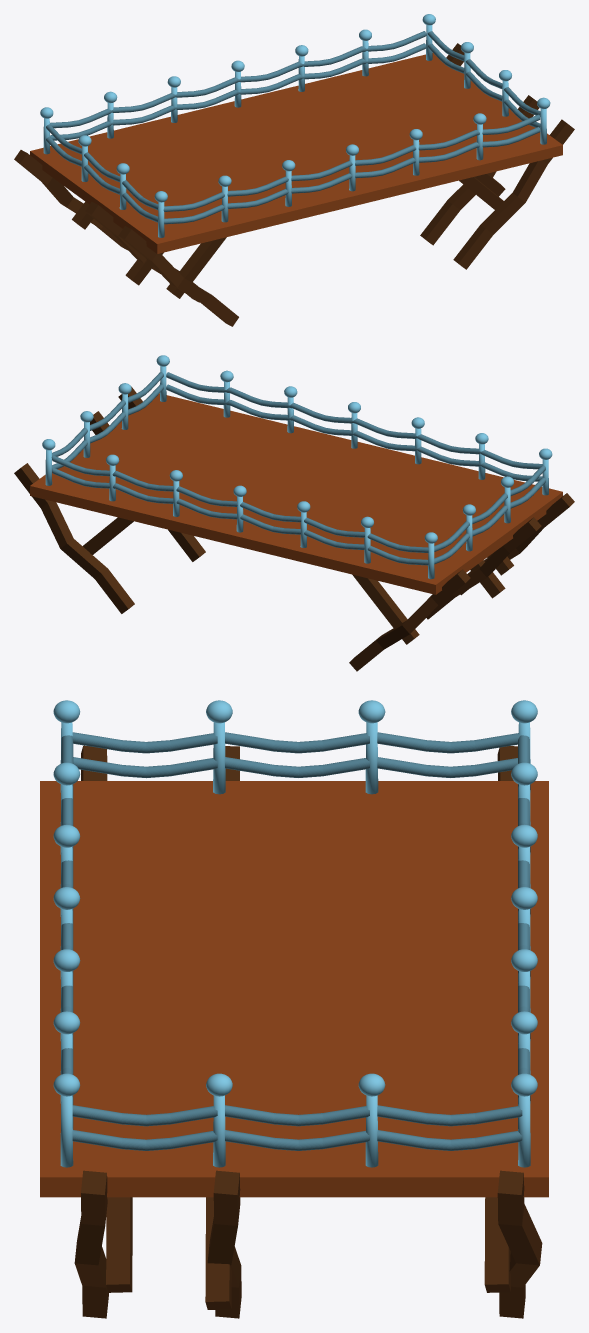
The model's file is PLALTFORM.fbx.
The picture shows the model from 3 angles, top to bottom: view 1: azimuth 30°, elevation 25°; view 2: azimuth 150°, elevation 25°; view 3: azimuth 270°, elevation 25°; orthographic projection. The views are drawn at different scales.
Parts seen in each view (by area): view 1: Cube.006, Cube.099, SHIP_ROD.001, Cylinder.005, Cylinder.007, Cylinder.006, Cylinder.008; view 2: Cube.006, Cube.099, SHIP_ROD.001, Cylinder.007, Cylinder.005, Cylinder.006, Cylinder.008; view 3: Cube.006, Cube.099, SHIP_ROD.001, Cylinder.008, Cylinder.006, Cylinder.007, Cylinder.005.
Part boxes in pixels (x1=…): Cube.006: x1=30, y1=53, x2=562, y2=253; Cube.099: x1=14, y1=43, x2=574, y2=326; SHIP_ROD.001: x1=40, y1=14, x2=550, y2=237; Cylinder.005: x1=50, y1=31, x2=426, y2=140; Cylinder.007: x1=163, y1=114, x2=540, y2=224; Cylinder.006: x1=46, y1=124, x2=158, y2=222; Cylinder.008: x1=427, y1=31, x2=540, y2=129; Cube.006: x1=30, y1=393, x2=562, y2=594; Cube.099: x1=14, y1=386, x2=574, y2=671; SHIP_ROD.001: x1=42, y1=355, x2=552, y2=579; Cylinder.007: x1=166, y1=372, x2=542, y2=481; Cylinder.005: x1=52, y1=455, x2=428, y2=565; Cylinder.006: x1=434, y1=465, x2=545, y2=564; Cylinder.008: x1=51, y1=372, x2=163, y2=470; Cube.006: x1=40, y1=781, x2=548, y2=1197; Cube.099: x1=74, y1=745, x2=542, y2=1318; SHIP_ROD.001: x1=53, y1=700, x2=537, y2=1167; Cylinder.008: x1=72, y1=1105, x2=522, y2=1150; Cylinder.006: x1=72, y1=732, x2=520, y2=778; Cylinder.007: x1=61, y1=735, x2=73, y2=1129; Cylinder.005: x1=518, y1=735, x2=529, y2=1130.
Size of the model in its own units: 290 by 96.49 by 142.
